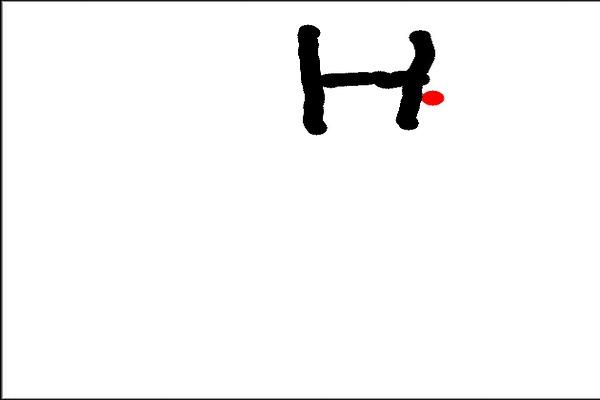H: (290, 14, 442, 150)
